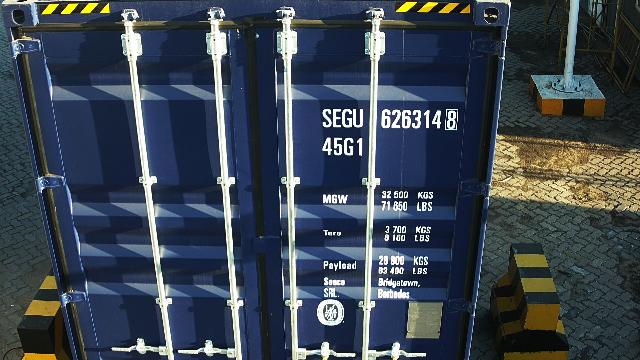1: (424, 109, 430, 129)
2: (391, 109, 401, 129)
3: (411, 109, 421, 129)
4: (432, 109, 442, 129)
6: (401, 109, 411, 129), (381, 108, 391, 128)
8: (446, 109, 458, 130)
E: (332, 108, 342, 128)
G: (342, 108, 352, 128)
S: (322, 108, 332, 128)
U: (352, 108, 363, 128)
